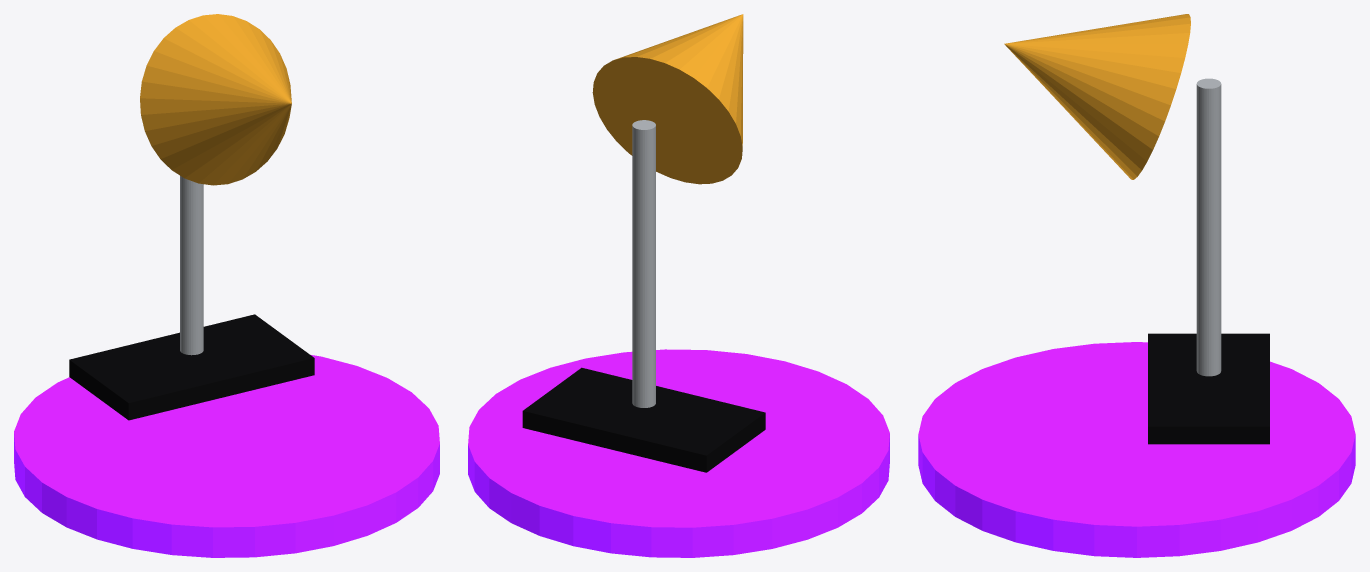
File: modelling_studio_light.dae
The picture shows the model from 3 angles, left to right: view 1: azimuth 30°, elevation 25°; view 2: azimuth 150°, elevation 25°; view 3: azimuth 270°, elevation 25°; orthographic projection. The views are drawn at different scales.
Parts seen in each view (by area): view 1: 05_02_Popular_Modelling_Studio_Light_ROOT_base, 05_02_Popular_Modelling_Studio_Light_part_02, 05_02_Popular_Modelling_Studio_Light_part_03, 05_02_Popular_Modelling_Studio_Light_part_01; view 2: 05_02_Popular_Modelling_Studio_Light_ROOT_base, 05_02_Popular_Modelling_Studio_Light_part_02, 05_02_Popular_Modelling_Studio_Light_part_03, 05_02_Popular_Modelling_Studio_Light_part_01; view 3: 05_02_Popular_Modelling_Studio_Light_ROOT_base, 05_02_Popular_Modelling_Studio_Light_part_02, 05_02_Popular_Modelling_Studio_Light_part_03, 05_02_Popular_Modelling_Studio_Light_part_01.
Boxes of the visible parts, box(x1,y1,x2,y2) form: 05_02_Popular_Modelling_Studio_Light_ROOT_base: box(14, 355, 439, 557); 05_02_Popular_Modelling_Studio_Light_part_02: box(140, 14, 291, 185); 05_02_Popular_Modelling_Studio_Light_part_03: box(69, 314, 314, 420); 05_02_Popular_Modelling_Studio_Light_part_01: box(180, 176, 203, 355); 05_02_Popular_Modelling_Studio_Light_ROOT_base: box(468, 349, 889, 557); 05_02_Popular_Modelling_Studio_Light_part_02: box(592, 14, 743, 184); 05_02_Popular_Modelling_Studio_Light_part_03: box(522, 367, 765, 472); 05_02_Popular_Modelling_Studio_Light_part_01: box(632, 120, 655, 407); 05_02_Popular_Modelling_Studio_Light_ROOT_base: box(918, 342, 1355, 557); 05_02_Popular_Modelling_Studio_Light_part_02: box(1004, 14, 1190, 179); 05_02_Popular_Modelling_Studio_Light_part_03: box(1148, 333, 1269, 444); 05_02_Popular_Modelling_Studio_Light_part_01: box(1196, 78, 1221, 376).
Size of the model in its own units: 0.76 by 0.85 by 0.76.
